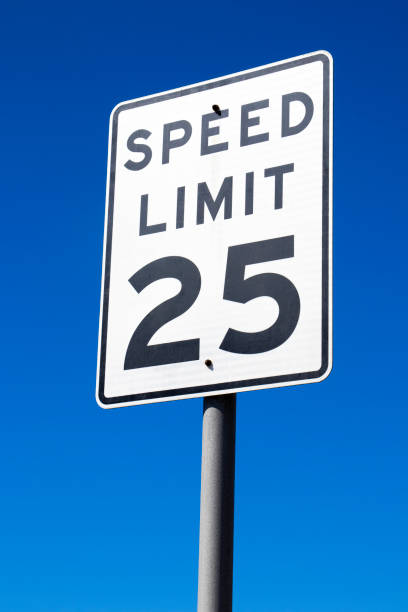SpeedLimitSign: (94, 49, 334, 408)
